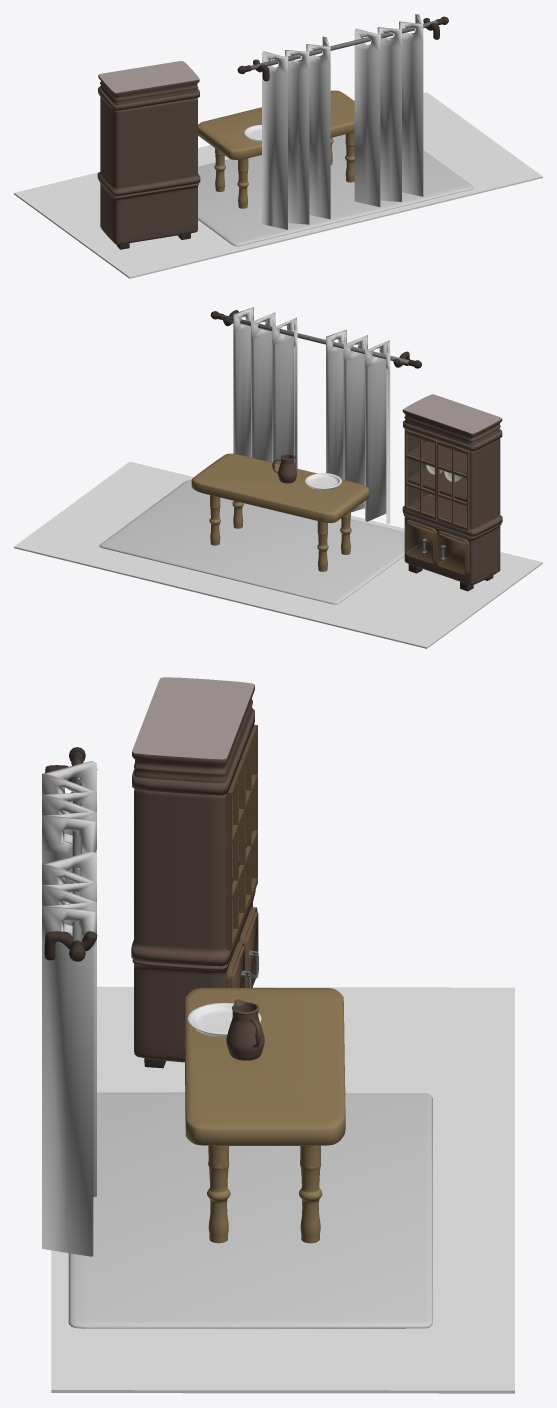
The model's file is Dining room.fbx.
3 views of the same model, one above another, from view 1: azimuth 30°, elevation 25°; view 2: azimuth 150°, elevation 25°; view 3: azimuth 270°, elevation 25° (orthographic). The views are drawn at different scales.
Visible parts, largest first — view 1: Curtain rod, Cabinet, walls.007, Carpet.001, Table; view 2: walls.007, Curtain rod, Carpet.001, Cabinet, Table, Pitcher, Plate2; view 3: walls.007, Carpet.001, Cabinet, Curtain rod, Table, Pitcher, Plate2.
Boxes of the visible parts, <box> form: Curtain rod: <box>237,14,448,229</box>; Cabinet: <box>97,61,200,249</box>; walls.007: <box>14,92,542,278</box>; Carpet.001: <box>198,134,473,246</box>; Table: <box>198,90,354,208</box>; walls.007: <box>14,461,542,648</box>; Curtain rod: <box>210,307,421,523</box>; Carpet.001: <box>99,480,404,604</box>; Cabinet: <box>402,394,502,591</box>; Table: <box>191,453,369,571</box>; Pitcher: <box>272,454,296,483</box>; Plate2: <box>305,473,341,490</box>; walls.007: <box>51,986,514,1393</box>; Carpet.001: <box>68,1092,432,1328</box>; Cabinet: <box>131,677,259,1068</box>; Curtain rod: <box>42,747,97,1256</box>; Table: <box>184,988,345,1243</box>; Pitcher: <box>226,999,264,1060</box>; Plate2: <box>187,1002,261,1037</box>.
Bounding box in the file's own units: 5.44 × 2.32 × 2.69.
